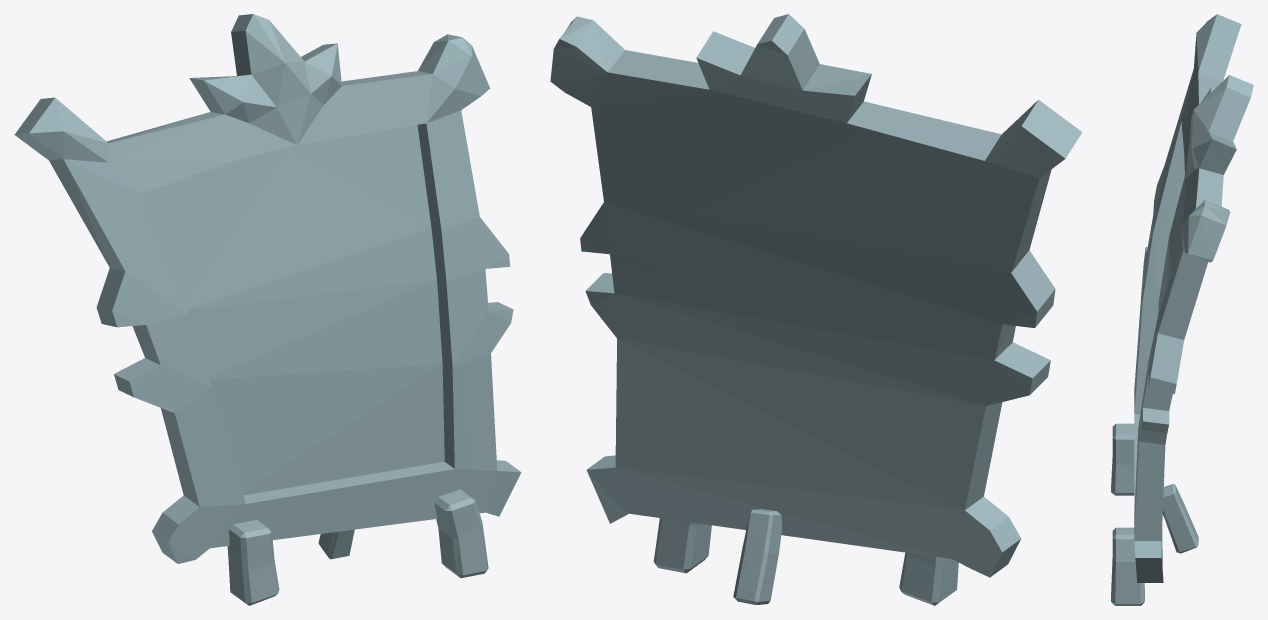
Rendered from Frame02.fbx.
The picture shows the model from 3 angles, left to right: view 1: azimuth 30°, elevation 25°; view 2: azimuth 150°, elevation 25°; view 3: azimuth 270°, elevation 25°; orthographic projection. The views are drawn at different scales.
Parts seen in each view (by area): view 1: Cube.024_0; view 2: Cube.024_0; view 3: Cube.024_0.
Part boxes in pixels (x1=…): Cube.024_0: x1=14, y1=14, x2=521, y2=605; Cube.024_0: x1=550, y1=14, x2=1082, y2=605; Cube.024_0: x1=1111, y1=14, x2=1253, y2=605.
Bounding box in the file's own units: 0.6535 × 0.7638 × 0.2129.
